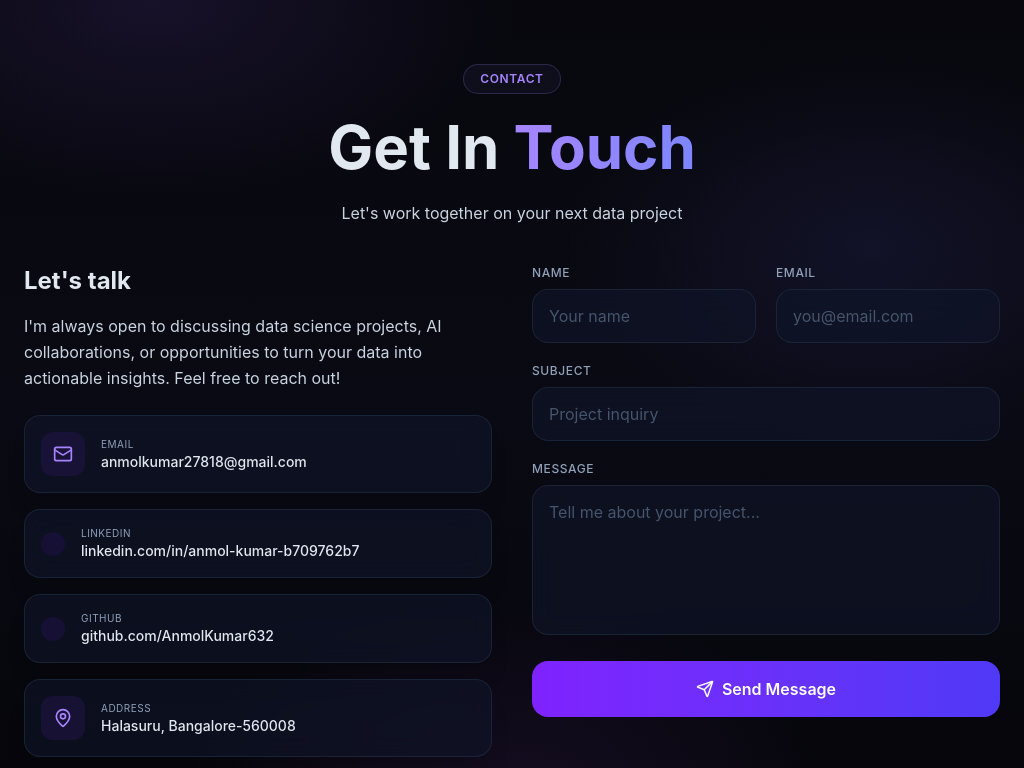
Scenario: Contact › Form Submission - API Error › shows error message when API returns failure
The width and height of the screenshot is (1024, 768).
Type "Test" into the field with placeholder "Your name" at (644, 316), box x1=532 y1=289 x2=756 y2=343
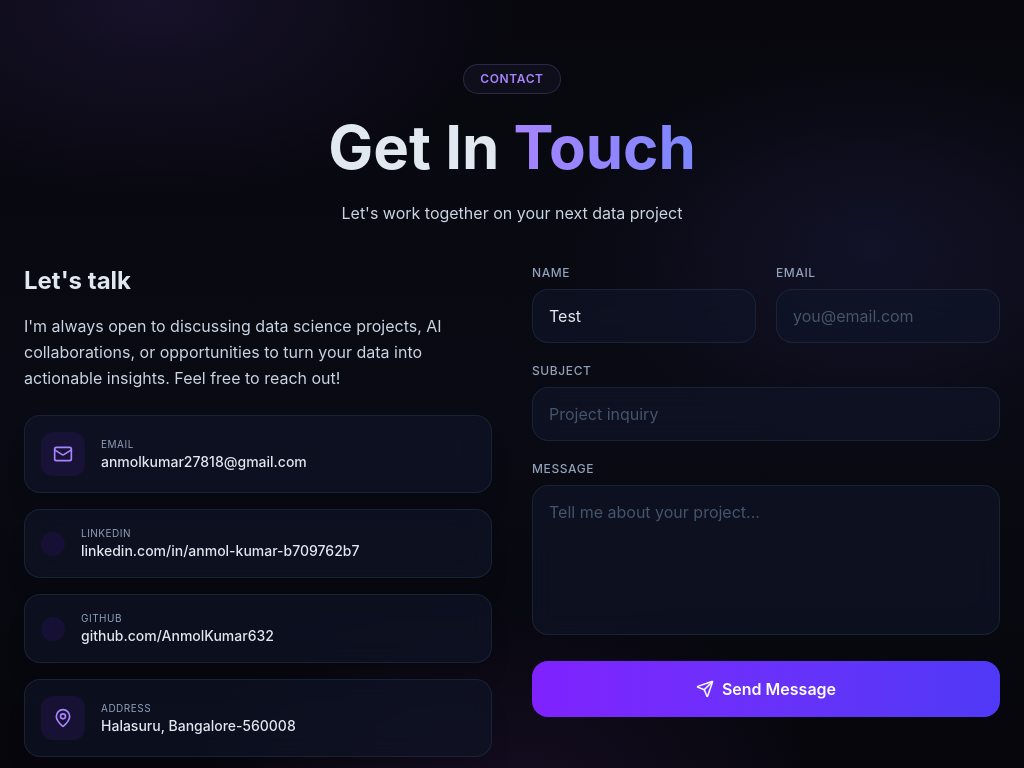
Type "test@example.com" into the field with placeholder "you@email.com" at (888, 316), box x1=776 y1=289 x2=1000 y2=343
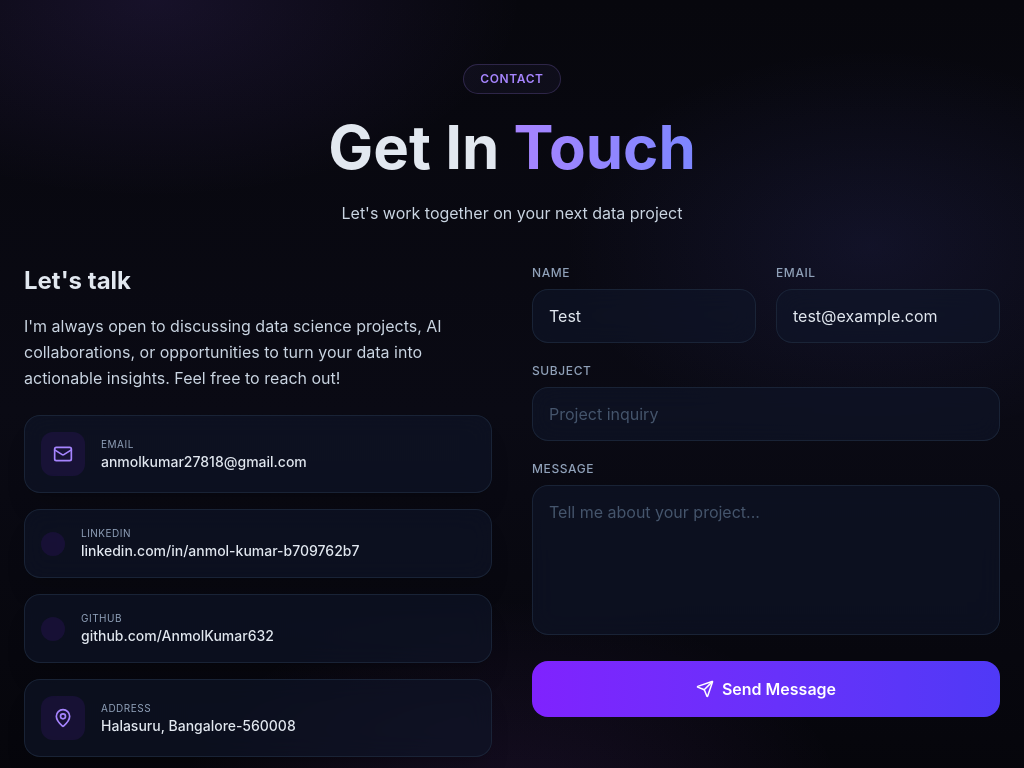
Type "Test" into the field with placeholder "Project inquiry" at (766, 414), box x1=532 y1=387 x2=1000 y2=441
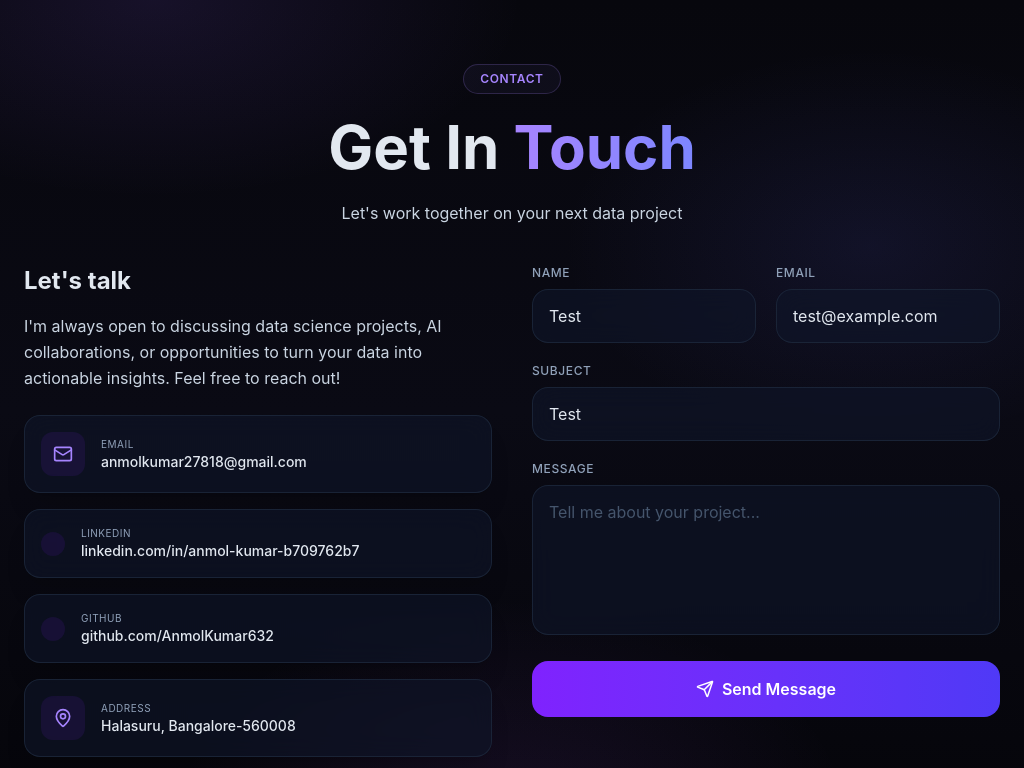
Type "Test" into the text box with placeholder "Tell me about your project..." at (766, 560), box x1=532 y1=485 x2=1000 y2=635
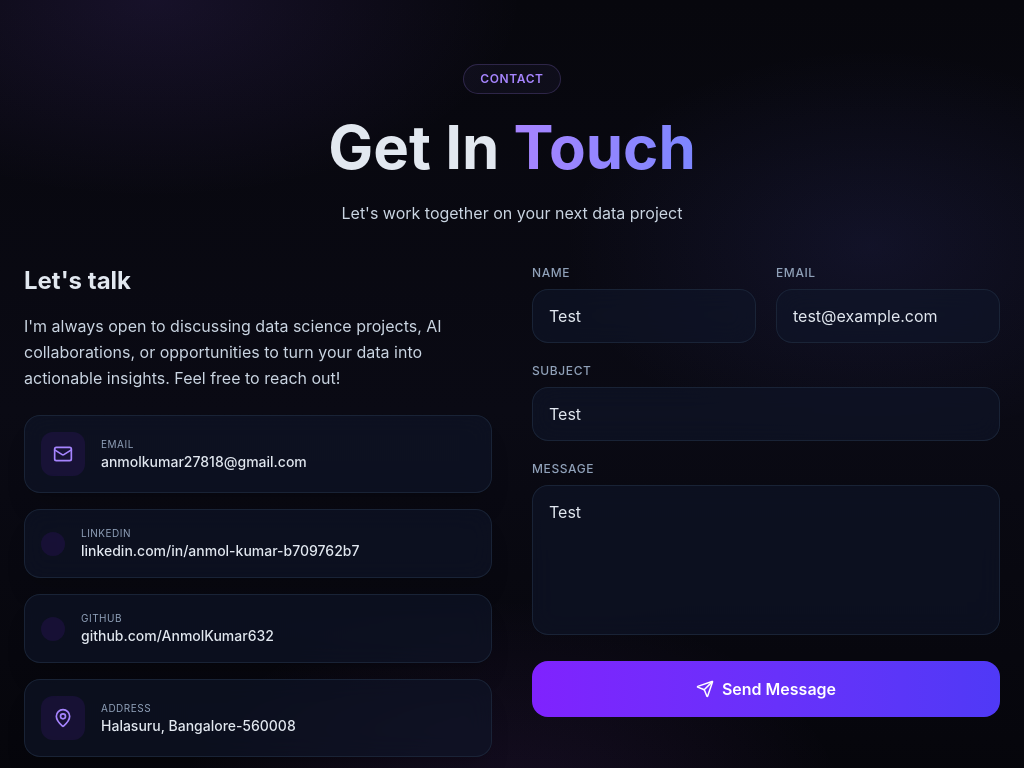
Click the button "Send Message" at (766, 689), box x1=532 y1=661 x2=1000 y2=717
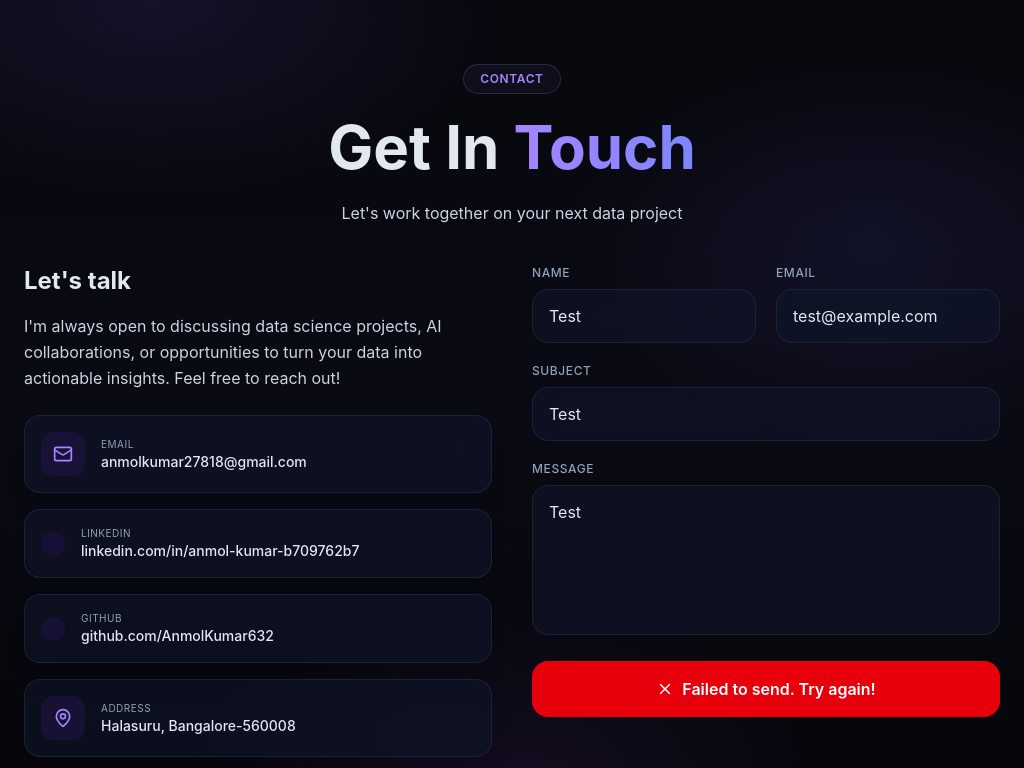
Expected: the button "Failed to send. Try again!" is shown, x1=532 y1=661 x2=1000 y2=717
